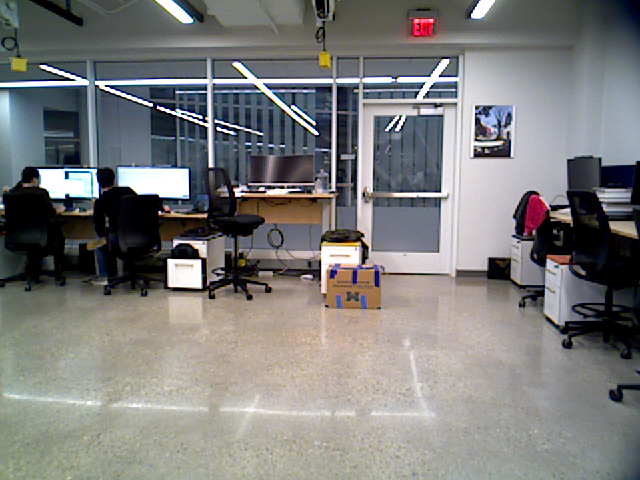painting3: (471, 102, 515, 158)
